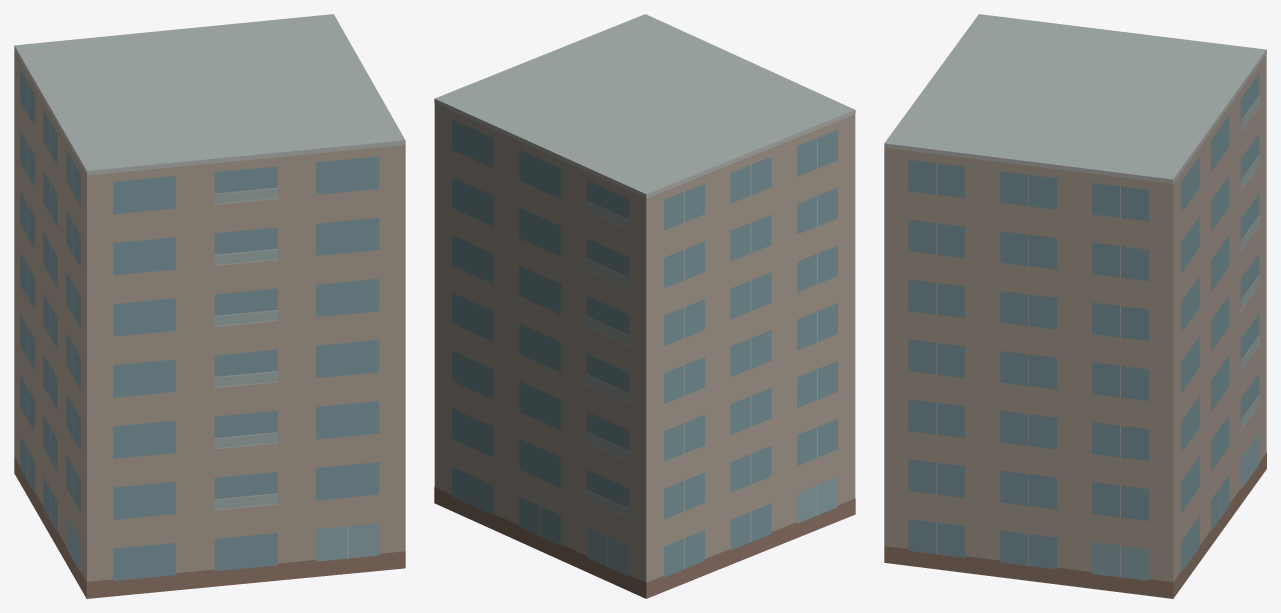
The model's file is survey-upis-32816872.glb.
3 renders of one model, left to right at view 1: azimuth 30°, elevation 25°; view 2: azimuth 150°, elevation 25°; view 3: azimuth 270°, elevation 25°, orthographic. The views are drawn at different scales.
Visible parts, largest first — view 1: survey-upis-32816872.tmp; view 2: survey-upis-32816872.tmp; view 3: survey-upis-32816872.tmp.
Boxes of the visible parts, x1=… form: survey-upis-32816872.tmp: x1=14, y1=14, x2=405, y2=598; survey-upis-32816872.tmp: x1=434, y1=14, x2=855, y2=598; survey-upis-32816872.tmp: x1=884, y1=14, x2=1266, y2=598.
Bounding box in the file's own units: 19.48 × 23 × 19.02.
